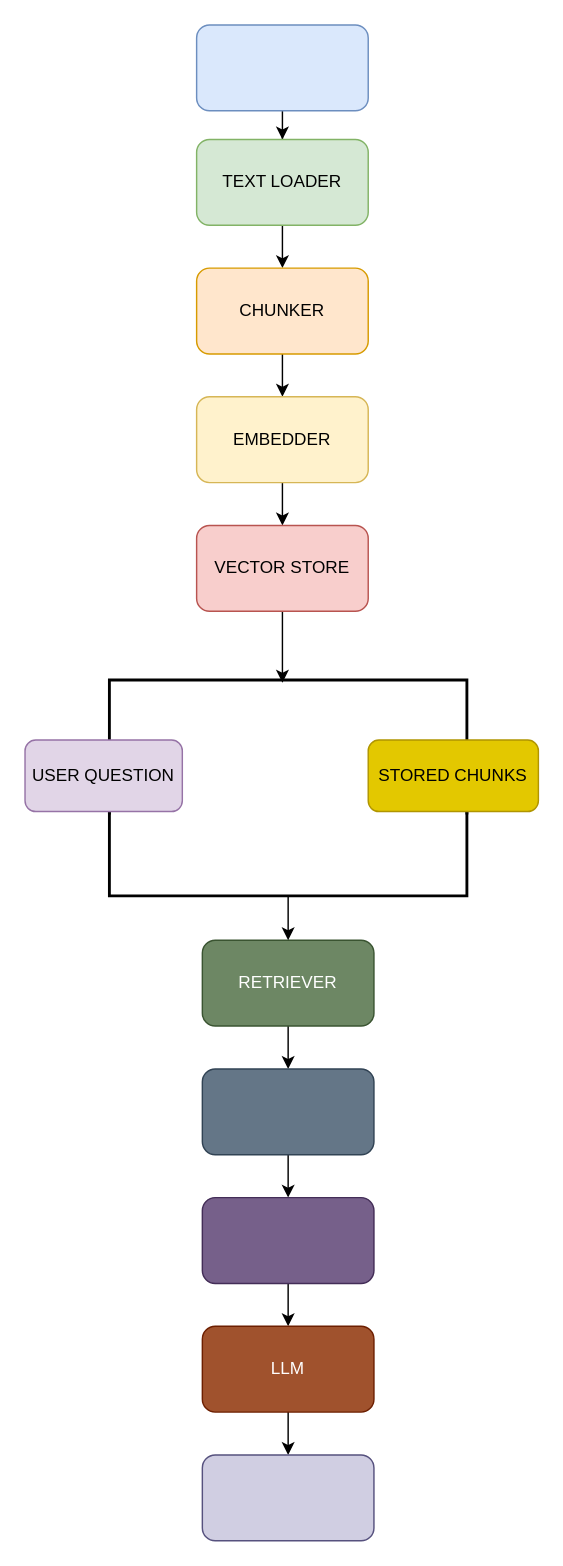
The diagram is 563 pixels wide and 1566 high, and some of its shapes have lost their labels. Each missing label, with the centre of its shape:
"DOCUMENTS" belongs at [281,67].
"PROMPT BUILDER" belongs at [287,1239].
"RERANKER" belongs at [287,1111].
"RESPONSE" belongs at [287,1497].
